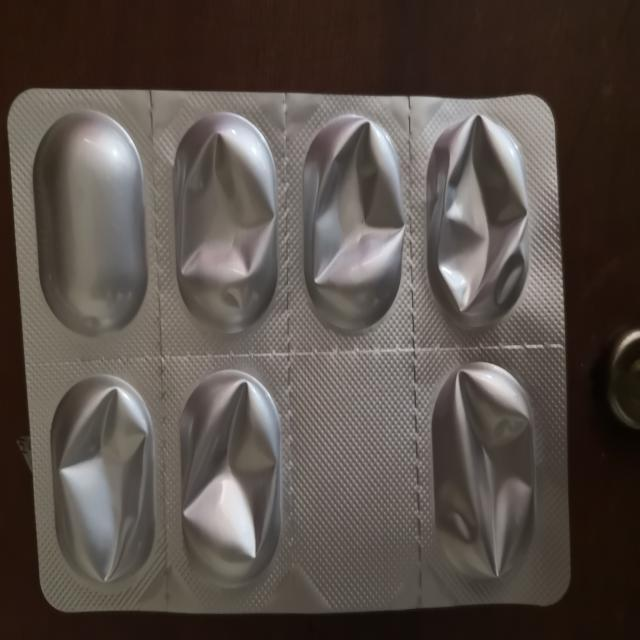Empty: (427, 354, 541, 594), (168, 109, 283, 338), (173, 367, 288, 591), (296, 110, 407, 338), (45, 371, 161, 588), (425, 111, 534, 338)
Pill: (28, 106, 150, 332)
